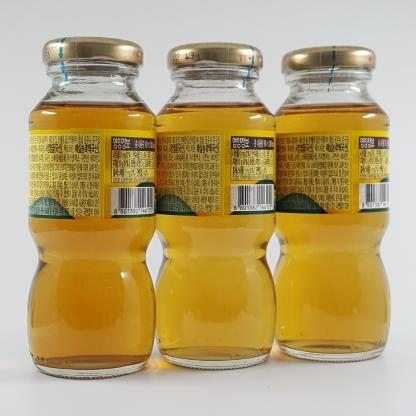-------180ML: (28, 36, 157, 380), (154, 42, 276, 371), (272, 46, 391, 363)
